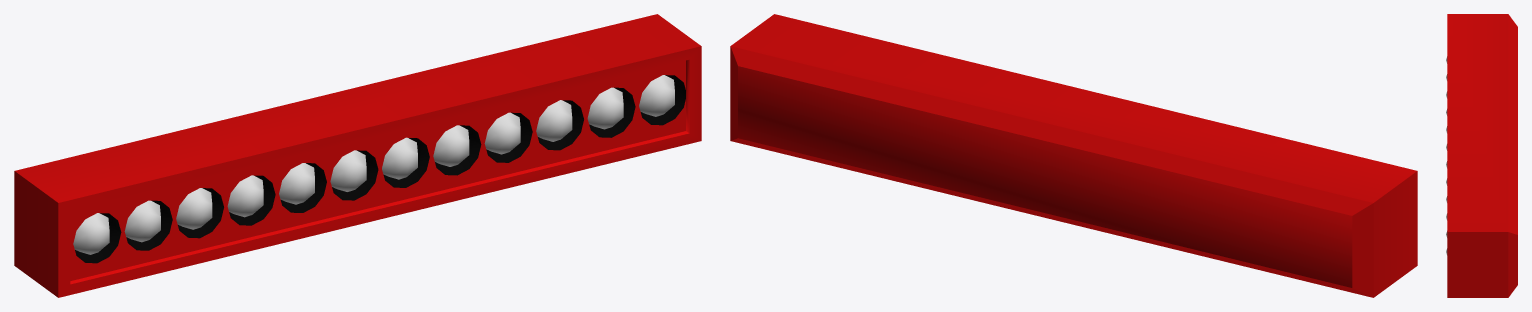
The model's file is VRSL-LightBar-15Channel.fbx.
3 renders of one model, left to right at view 1: azimuth 30°, elevation 25°; view 2: azimuth 150°, elevation 25°; view 3: azimuth 270°, elevation 25°, orthographic. The views are drawn at different scales.
Parts seen in each view (by area): view 1: LightBar-15Channel; view 2: LightBar-15Channel; view 3: LightBar-15Channel.
Boxes of the visible parts, x1,y1,x2,y2 form: LightBar-15Channel: [14, 14, 701, 297]; LightBar-15Channel: [730, 14, 1417, 297]; LightBar-15Channel: [1446, 14, 1517, 297].
Bounding box in the file's own units: 1.05 × 0.1481 × 0.1463.
